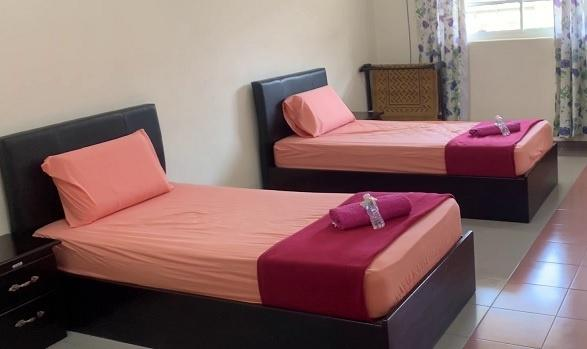bed: (0, 100, 463, 349), (244, 72, 558, 225)
door: (554, 4, 587, 136)
table: (0, 229, 66, 349)
